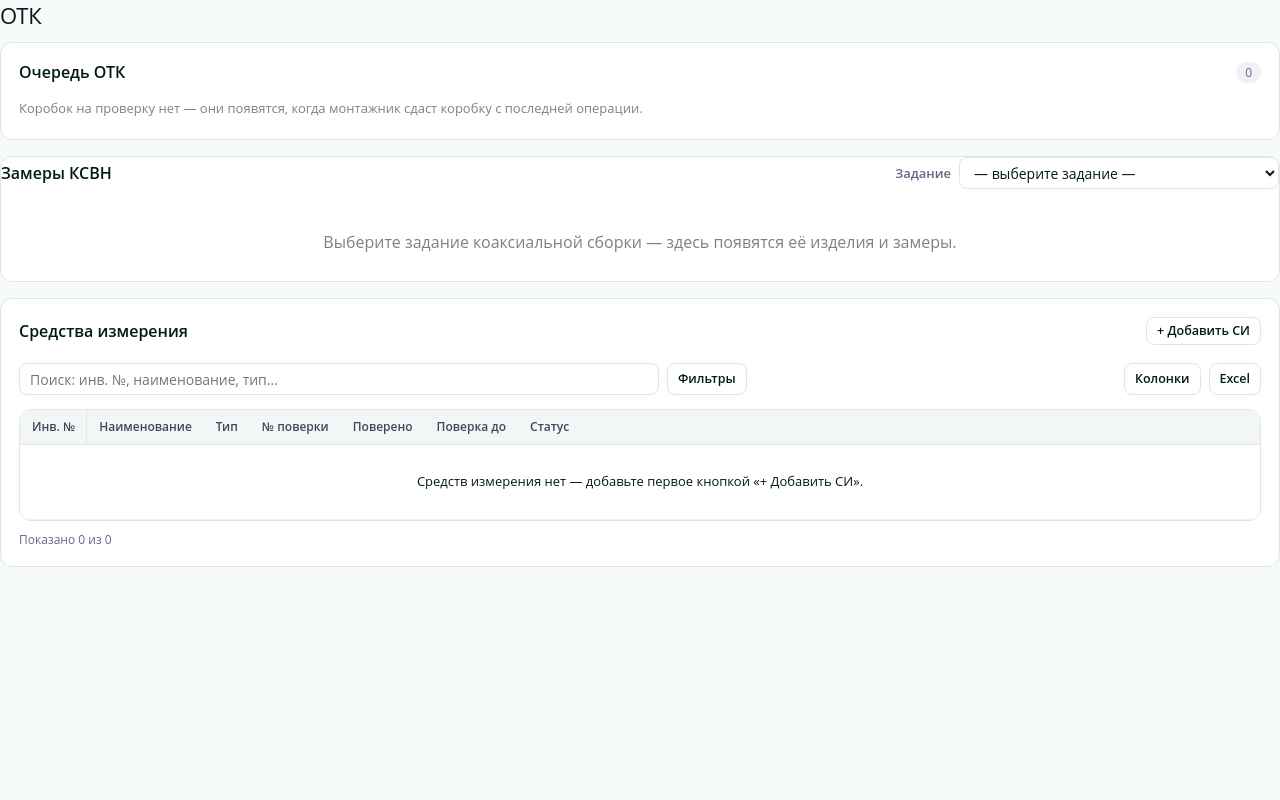
it: registers an instrument and closes the form
Click the button "+ Добавить СИ".
click(1204, 331)  # box [1146,317,1261,345]
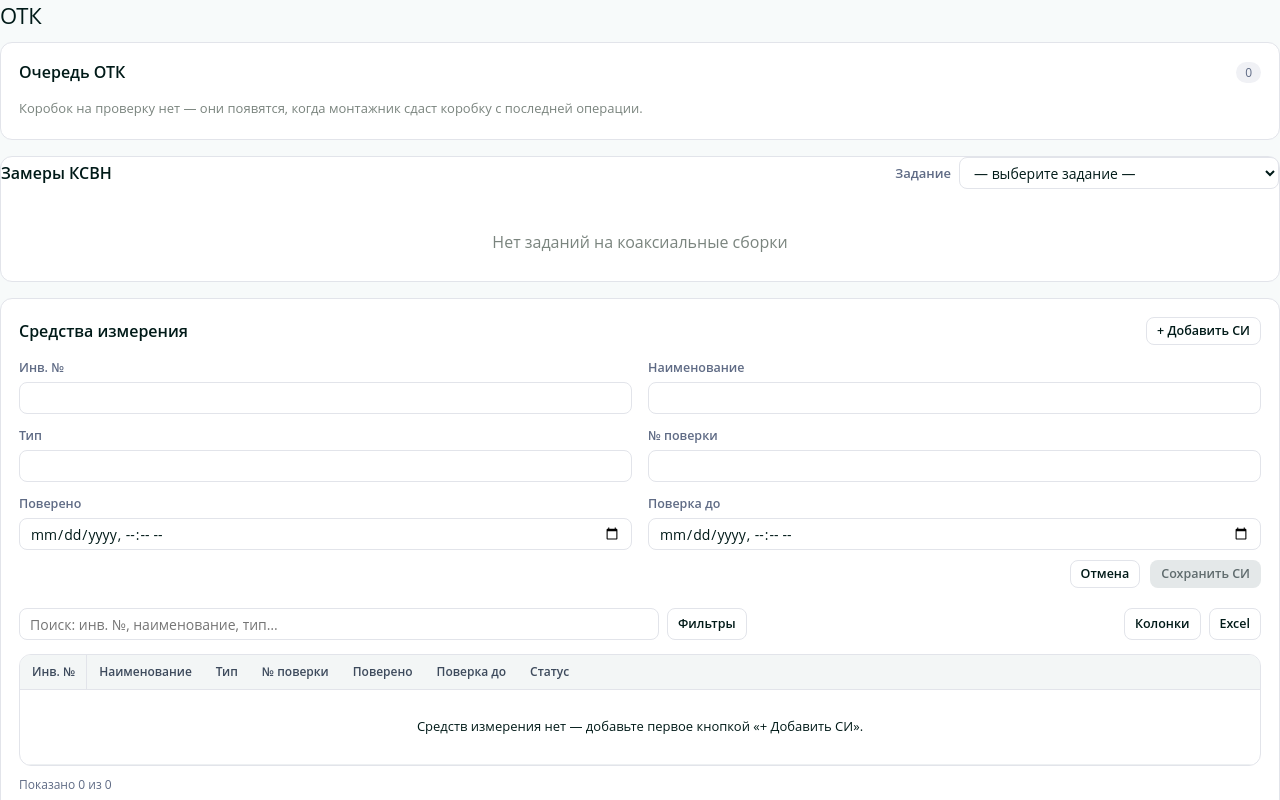
Type "СИ-014" into the field labelled "Инв. №".
click(326, 398); type("СИ-014")  # box [19,382,632,414]
Type "Микрометр МК-25" into the field labelled "Наименование".
click(954, 398); type("Микрометр МК-25")  # box [648,382,1261,414]
Type "Микрометр" into the field labelled "Тип".
click(326, 466); type("Микрометр")  # box [19,450,632,482]
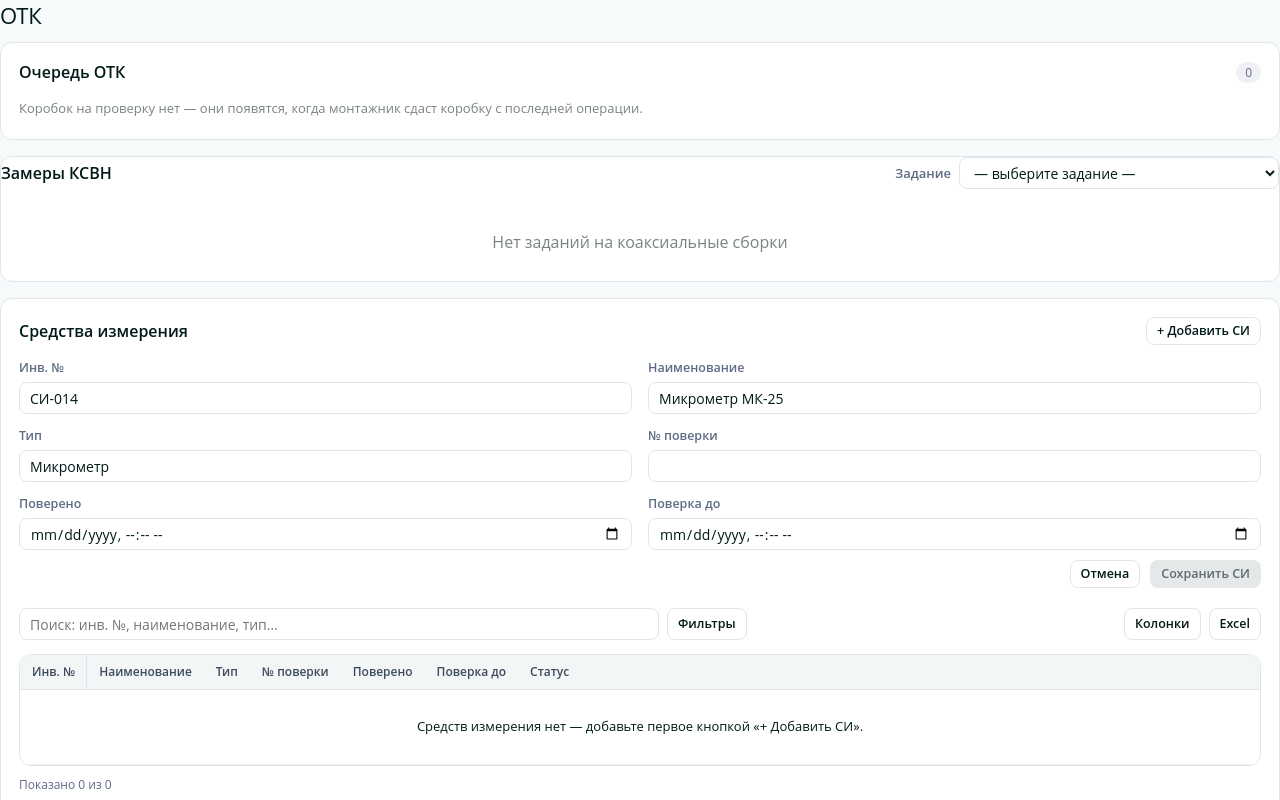
Type "П-2026/118" into the field labelled "№ поверки".
click(954, 466); type("П-2026/118")  # box [648,450,1261,482]
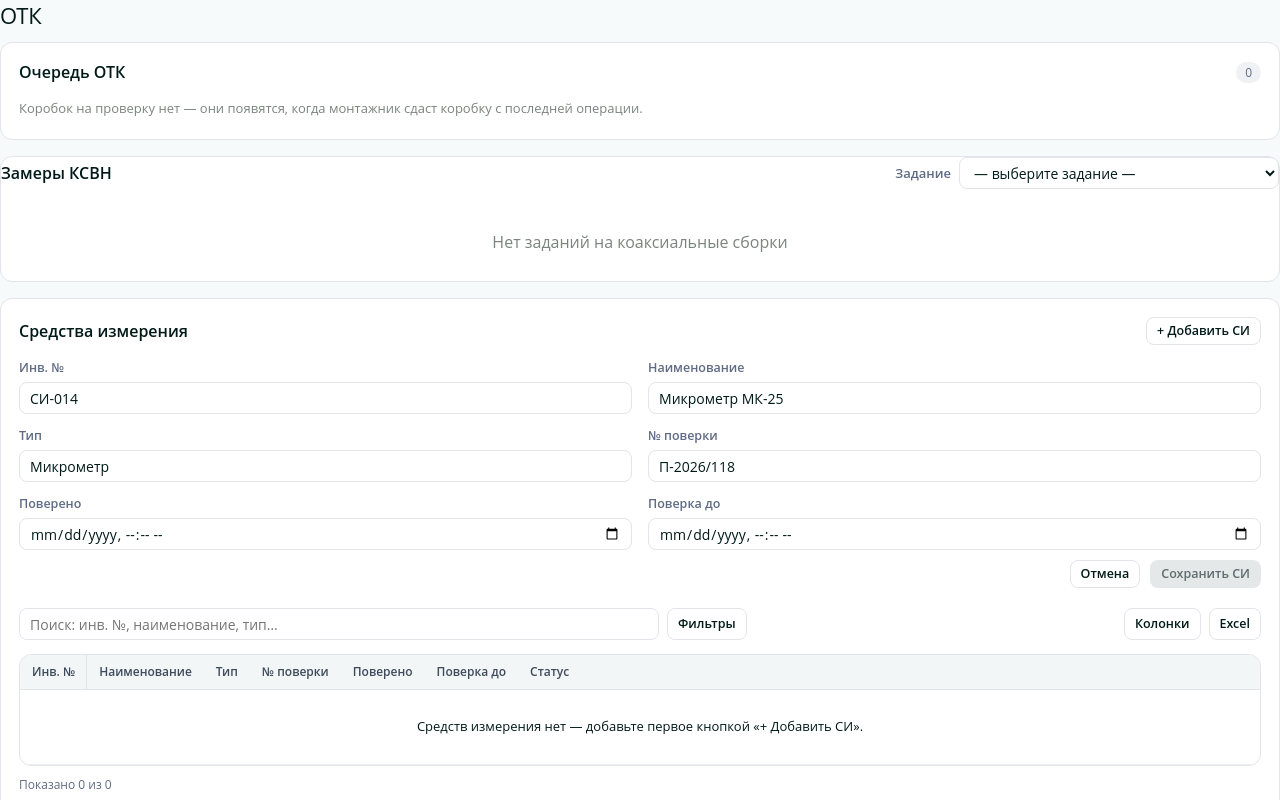
Type "2026-09-01T09:00" into the field labelled "Поверено".
click(326, 534); type("2026-09-01T09:00")  # box [19,518,632,550]
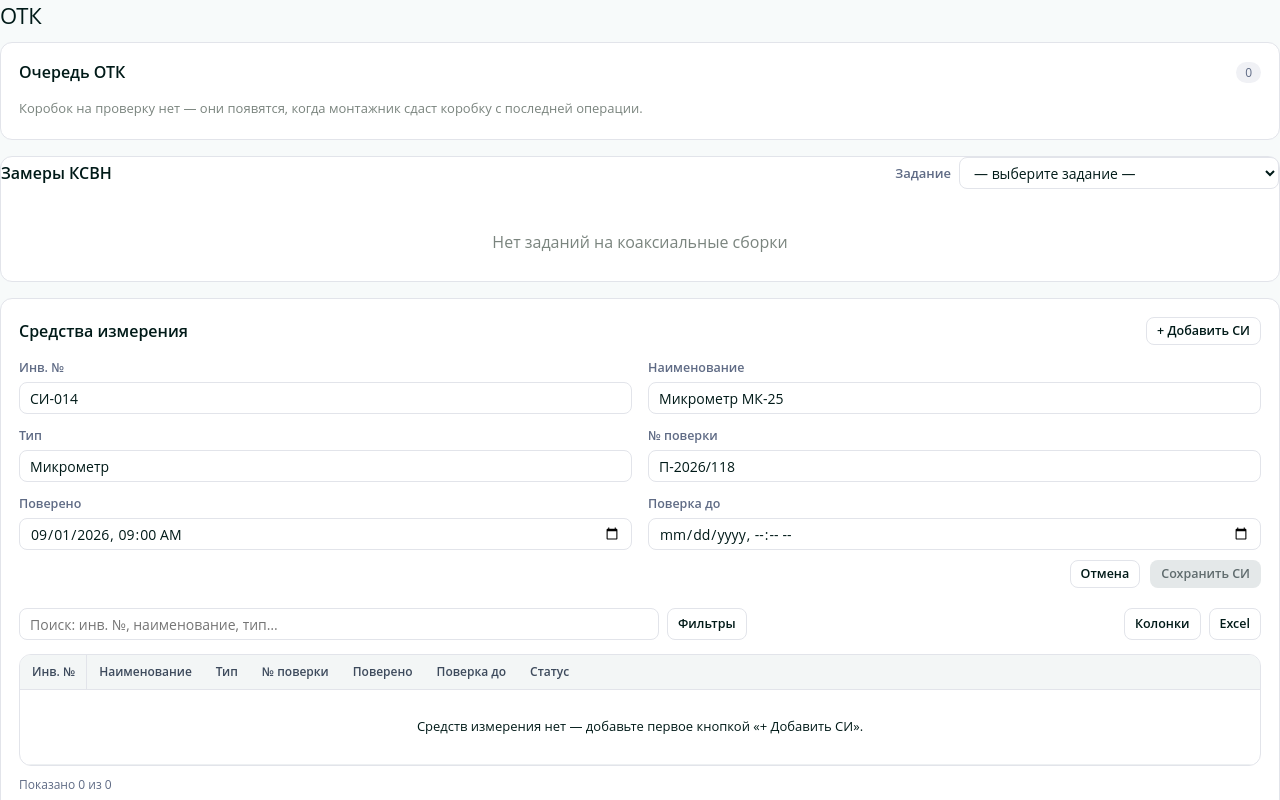
Type "2027-09-01T09:00" into the field labelled "Поверка до".
click(954, 534); type("2027-09-01T09:00")  # box [648,518,1261,550]
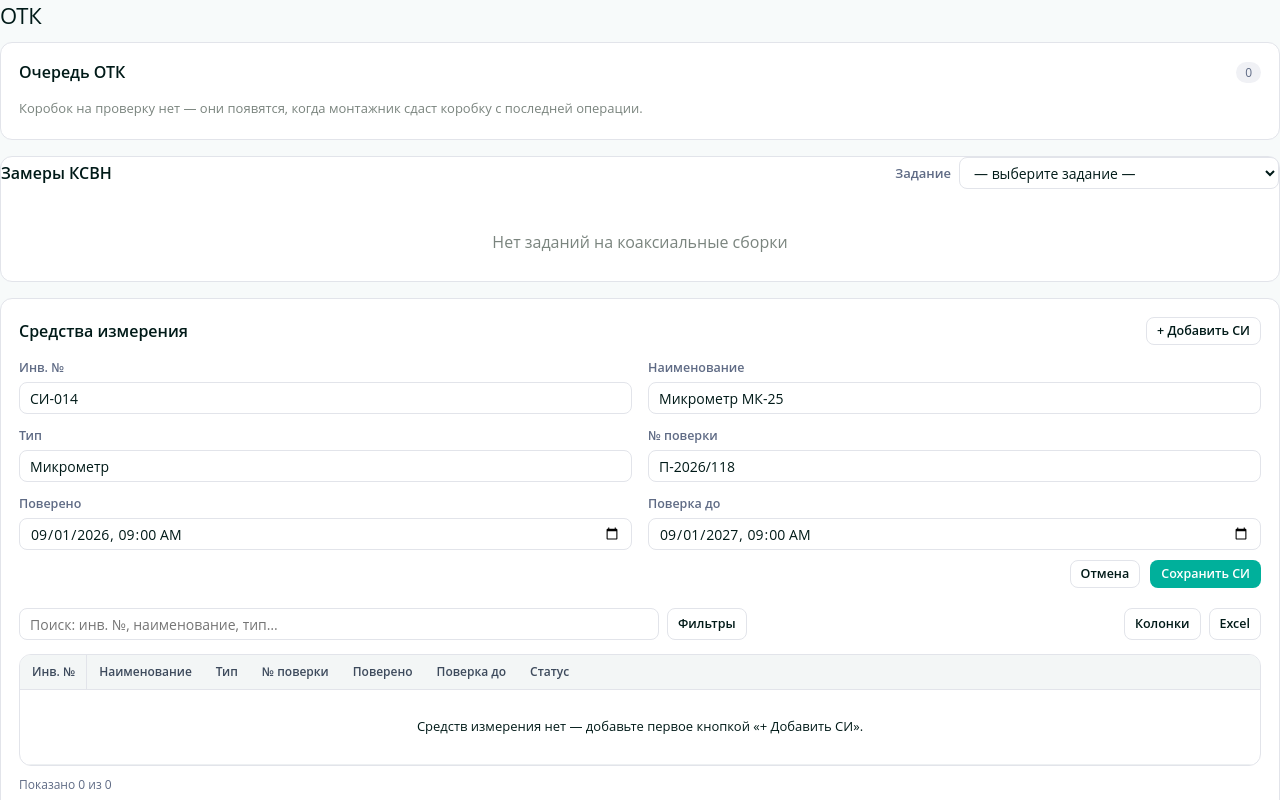
Click the button "Сохранить СИ".
click(1206, 574)  # box [1150,560,1261,588]
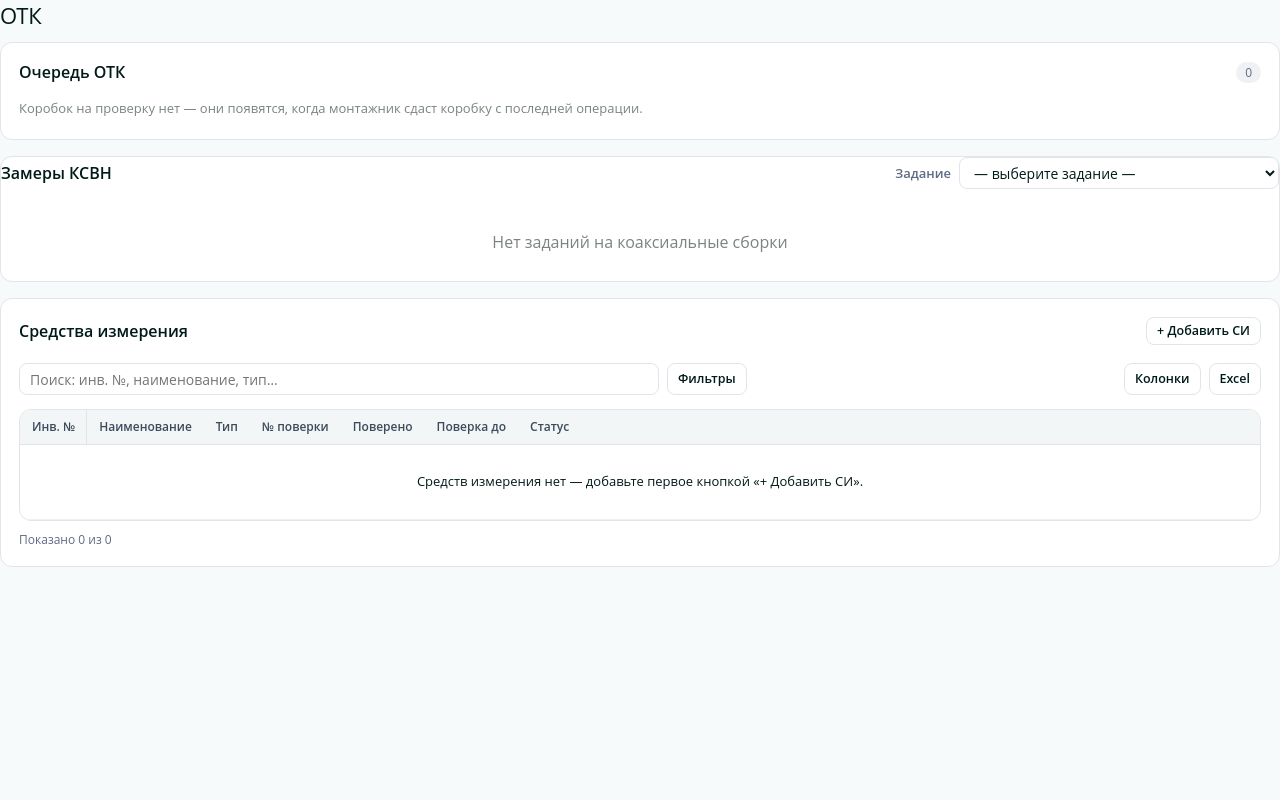
Now the button "Сохранить СИ" is gone
